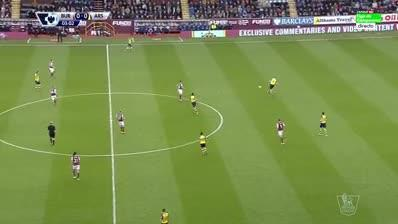futbol: (256, 84, 264, 89)
player: (274, 117, 289, 149), (316, 109, 331, 141), (70, 150, 84, 183), (114, 109, 128, 138), (197, 130, 210, 158), (265, 74, 279, 96), (188, 92, 201, 115), (175, 79, 186, 105), (32, 69, 43, 93), (158, 206, 173, 223), (123, 34, 137, 52), (47, 57, 57, 79), (50, 85, 59, 107)
referree: (46, 119, 58, 148)
